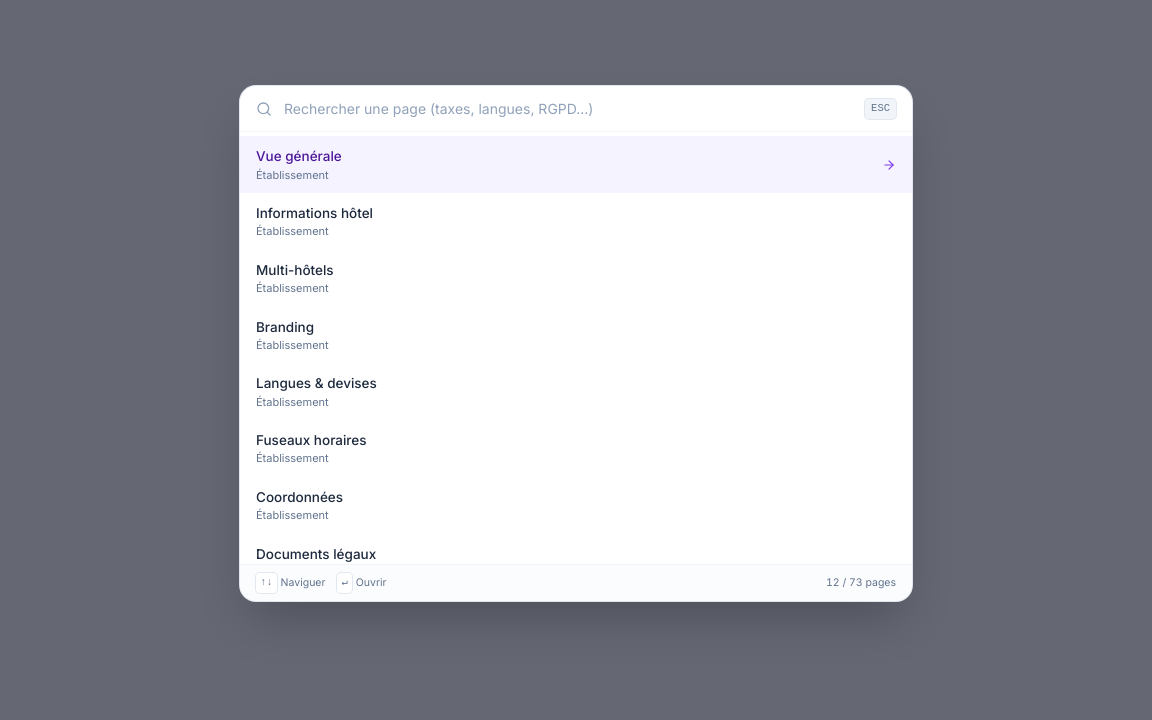
it: <SettingsCommandPalette> › filtre les résultats par recherche substring
Type "rgpd" into the dropdown with placeholder "Rechercher une page (taxes, langues, RGPD…)".
click(569, 109); type("rgpd")  # box [284,98,853,119]
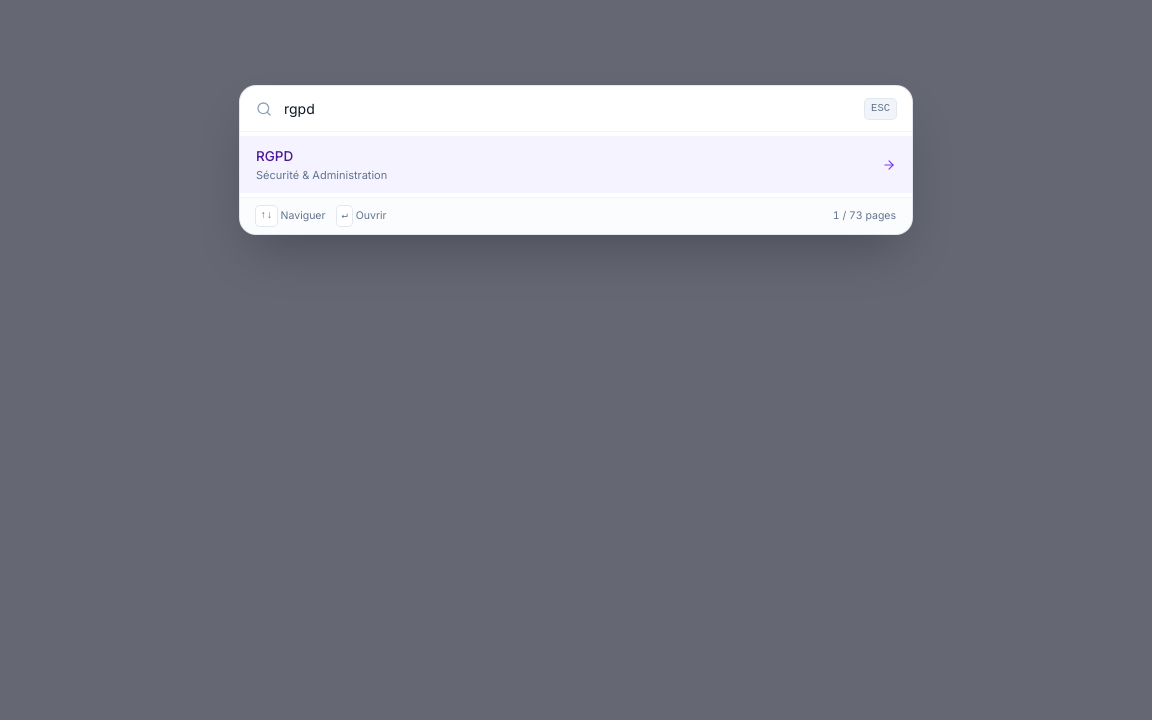
Now the text "RGPD" is shown, box [256,148,293,164]
